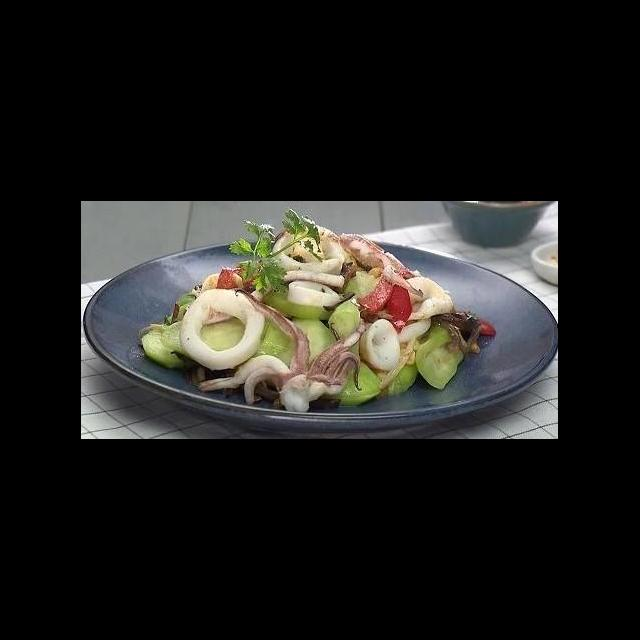muc: (190, 286, 372, 415), (180, 286, 270, 373), (337, 229, 428, 298), (268, 221, 348, 290), (387, 274, 458, 322), (358, 316, 404, 373), (284, 279, 342, 311)
